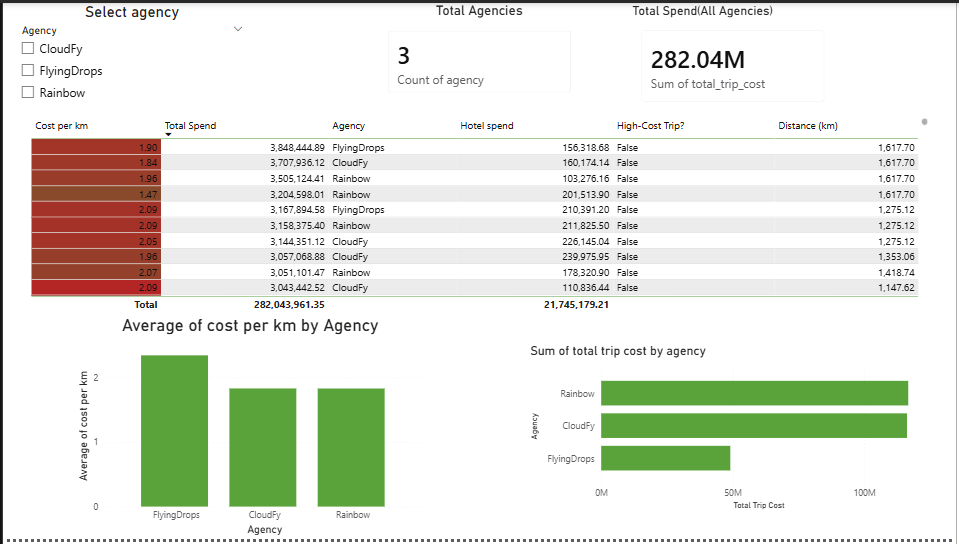

The dashboard page shown, as its layout file describes it:
{"tool":"powerbi","page":{"name":"Page 3","canvas":[1280,720],"ordinal":2},"visuals":[{"type":"cardVisual","title":"Total Agencies","fields":{"Data":["Count(clean_trips_enhanced.agency)"]},"box":[500,0,280,137.5],"z":0},{"type":"cardVisual","title":"Total Spend(All Agencies)","fields":{"Data":["Sum(clean_trips_enhanced.total_trip_cost)"]},"box":[840,0,280,150],"z":1000},{"type":"clusteredBarChart","title":"Sum of total trip cost by agency","fields":{"Category":["clean_trips_enhanced.agency"],"Y":["Sum(clean_trips_enhanced.total_trip_cost)"]},"box":[702.5,457.5,545,227.5],"z":2000},{"type":"clusteredColumnChart","title":"Average of cost per km by Agency","fields":{"Category":["clean_trips_enhanced.agency"],"Y":["Avg(clean_trips_enhanced.cost_per_km)"]},"box":[95,420,475,300],"z":3000},{"type":"tableEx","fields":{"Values":["clean_trips_enhanced.cost_per_km","Sum(clean_trips_enhanced.total_trip_cost)","clean_trips_enhanced.agency","Sum(clean_trips_enhanced.hotel_total)","clean_trips_enhanced.flag_high_cost","clean_trips_enhanced.flight_distance"]},"box":[32.5,150,1215,270],"z":4000},{"type":"slicer","title":"Select agency","fields":{"Values":["clean_trips_enhanced.agency"]},"box":[12.5,0,322.5,137.5],"z":5000}]}

Visuals, with their boxes on the page's 1280x720 design canvas (x1, y1, x2, y2). These are canvas units, not pixel positions in the 959x544 screenshot, which may show the page scaled, cropped or inside an application window:
"Total Agencies" cardVisual: crop(500, 0, 780, 138)
"Total Spend(All Agencies)" cardVisual: crop(840, 0, 1120, 150)
"Sum of total trip cost by agency" clusteredBarChart: crop(702, 458, 1248, 685)
"Average of cost per km by Agency" clusteredColumnChart: crop(95, 420, 570, 720)
tableEx - clean_trips_enhanced.cost_per_km x Sum(clean_trips_enhanced.total_trip_cost): crop(32, 150, 1248, 420)
"Select agency" slicer: crop(12, 0, 335, 138)
